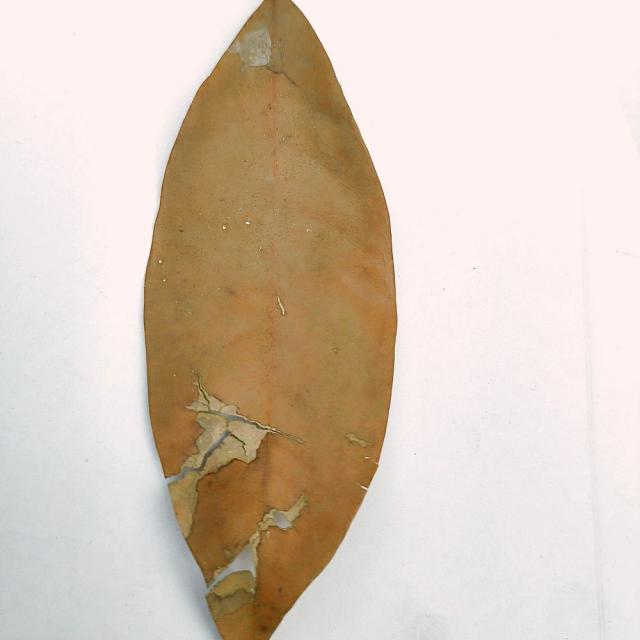Dry_Leaf-Lychee: (142, 0, 398, 639)
